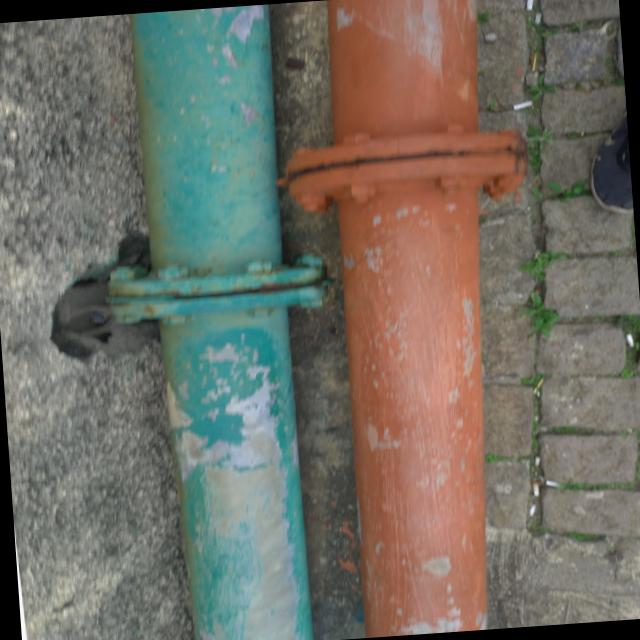gas: (316, 0, 511, 638), (139, 3, 309, 640)
